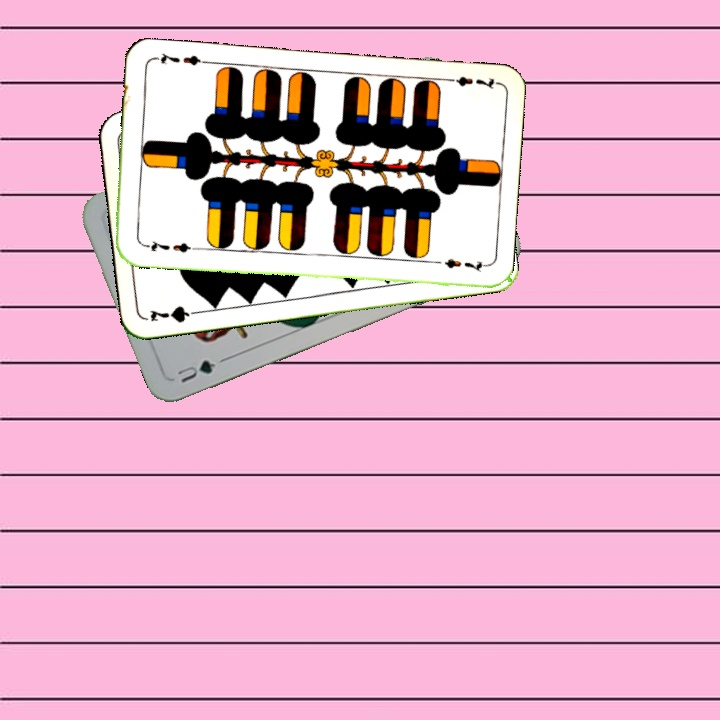E7: (440, 72, 499, 92), (138, 236, 197, 255)
G7: (146, 302, 205, 325)
GU: (173, 356, 219, 386)
